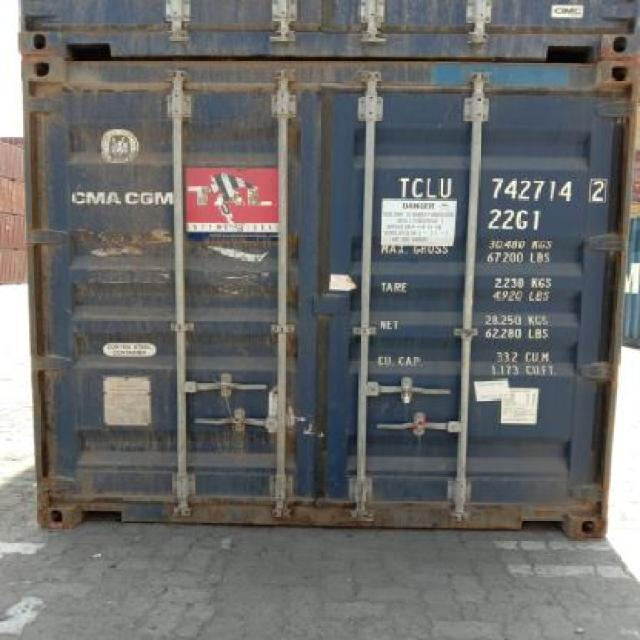ISO: (489, 208, 542, 234)
container_number: (397, 167, 603, 205)
